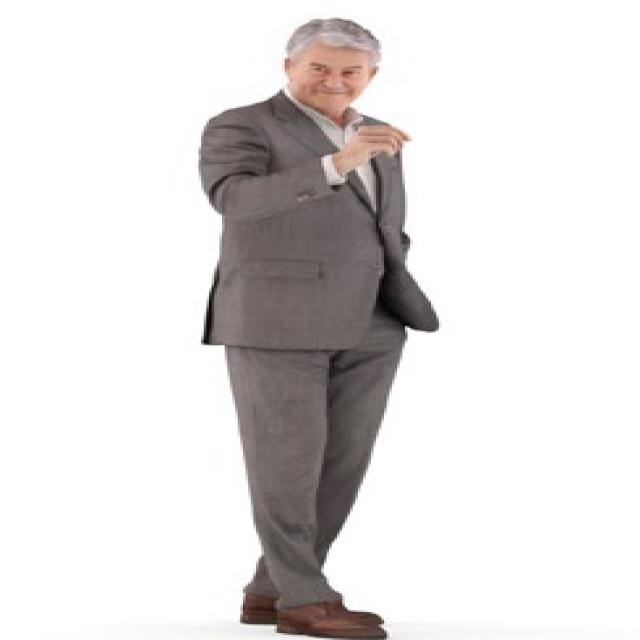standing: (192, 17, 443, 640)
